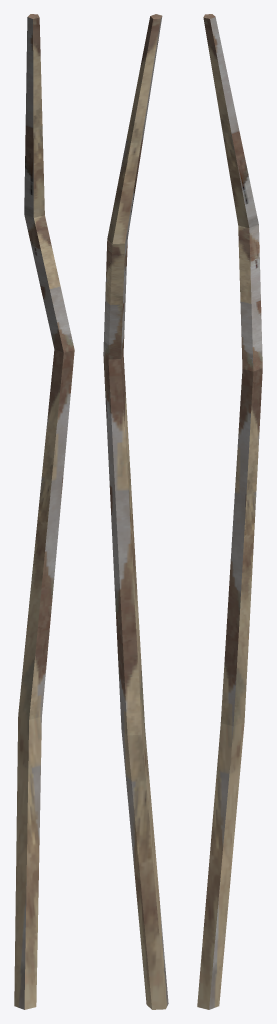
File: Forest_1_Euc_4.gltf
The picture shows the model from 3 angles, left to right: view 1: azimuth 30°, elevation 25°; view 2: azimuth 150°, elevation 25°; view 3: azimuth 330°, elevation 25°; orthographic projection.
Visible parts, largest first — view 1: Forest_1_Euc_4; view 2: Forest_1_Euc_4; view 3: Forest_1_Euc_4.
Part boxes in pixels (bbox=[...]): Forest_1_Euc_4: bbox=[14, 14, 74, 1009]; Forest_1_Euc_4: bbox=[103, 14, 168, 1009]; Forest_1_Euc_4: bbox=[197, 14, 262, 1009].
Size of the model in its own units: 1.44 by 22.69 by 1.12.
Materials: 1 (1 with a texture image).
